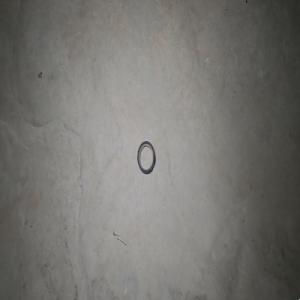Tape: (137, 140, 155, 174)
